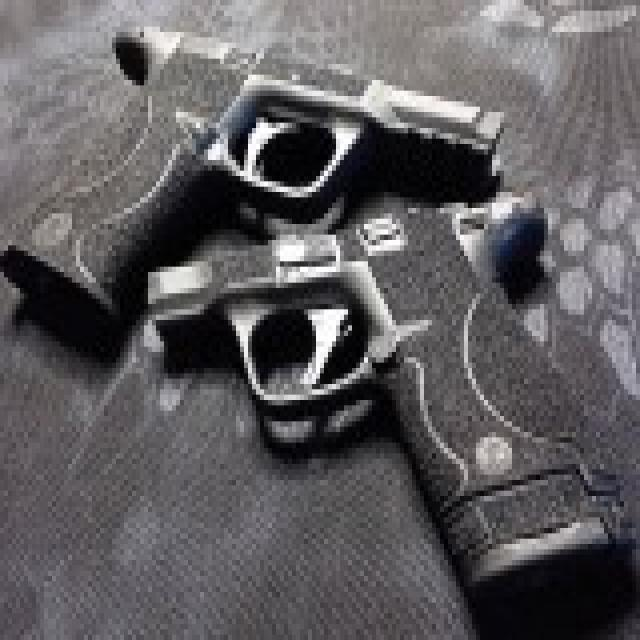Gun: (15, 11, 622, 570)
